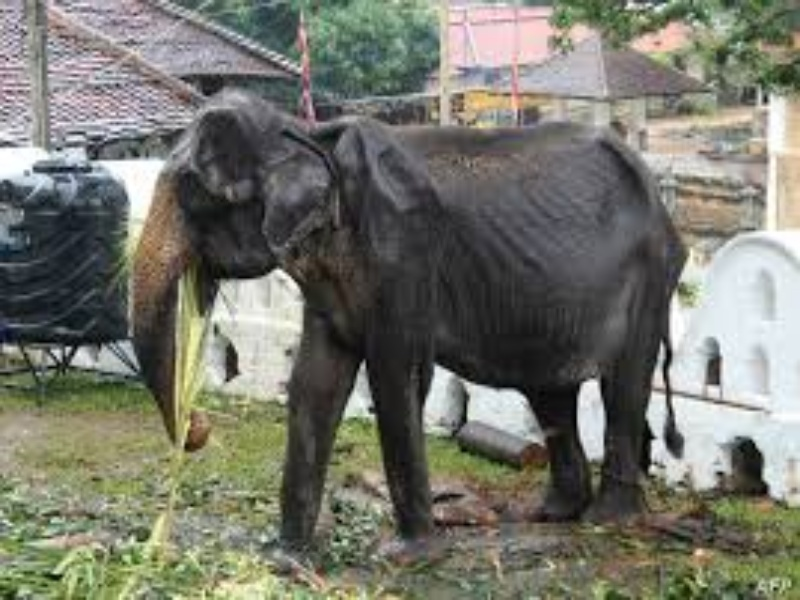elephant: (93, 90, 723, 541)
